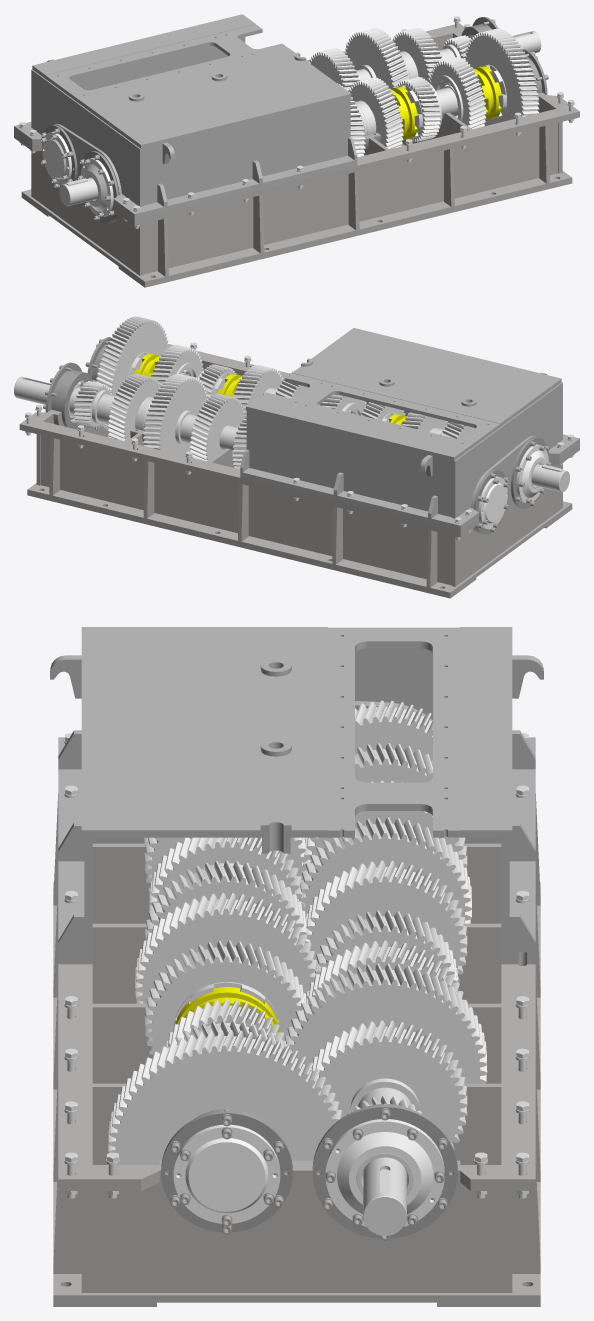
The picture shows the model from 3 angles, top to bottom: view 1: azimuth 30°, elevation 25°; view 2: azimuth 150°, elevation 25°; view 3: azimuth 270°, elevation 25°; orthographic projection. The views are drawn at different scales.
Visible parts, largest first — view 1: 솔리드1 (×21), 솔리드2; view 2: 솔리드1 (×24), 솔리드2; view 3: 솔리드1 (×24), 솔리드2.
Part boxes in pixels (bbox=[...]): 솔리드1 (×21): bbox=[14, 17, 579, 287]; 솔리드2: bbox=[14, 14, 357, 219]; 솔리드1 (×24): bbox=[14, 316, 579, 598]; 솔리드2: bbox=[240, 328, 579, 531]; 솔리드1 (×24): bbox=[53, 700, 540, 1306]; 솔리드2: bbox=[50, 627, 543, 964].
Size of the model in its own units: 2.25 by 0.585 by 0.9529.
